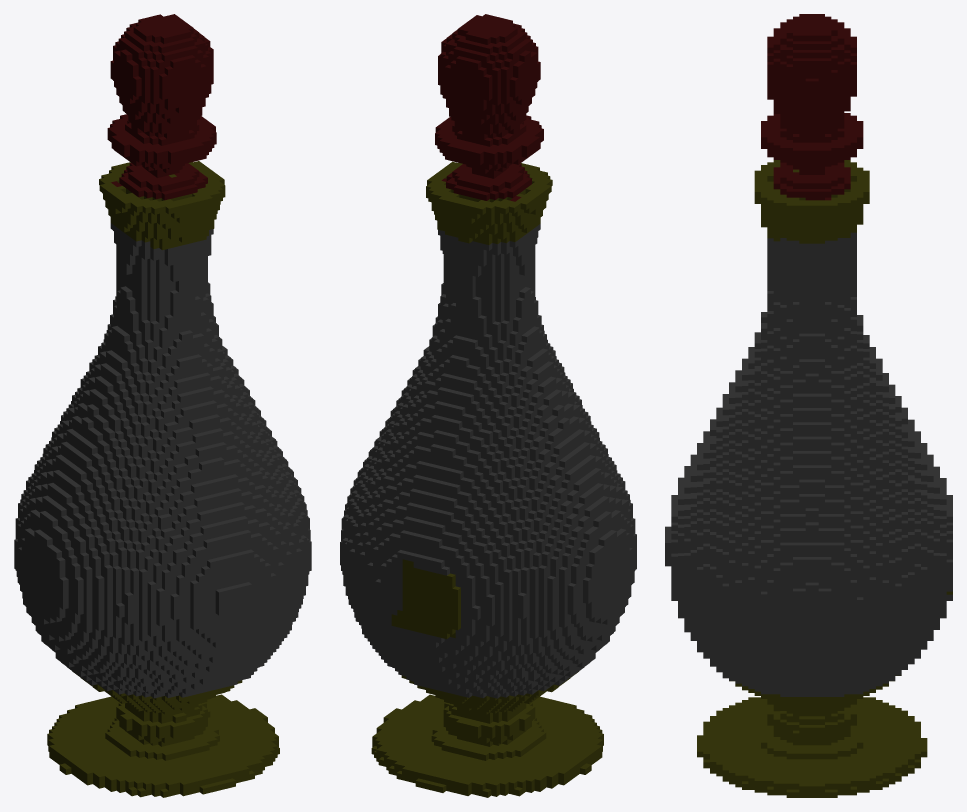
File: bottlr.obj
The picture shows the model from 3 angles, left to right: view 1: azimuth 30°, elevation 25°; view 2: azimuth 150°, elevation 25°; view 3: azimuth 270°, elevation 25°; orthographic projection.
Size of the model in its own units: 45 by 125 by 45.
Materials: 1 (1 with a texture image).
